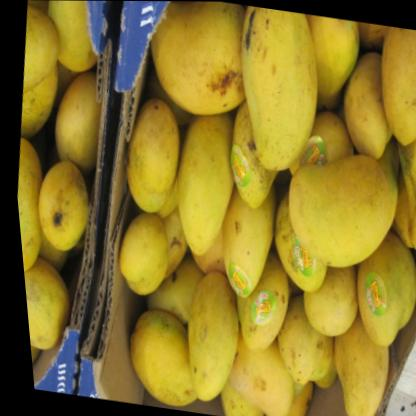mango: (220, 4, 337, 182), (269, 146, 407, 288), (159, 264, 249, 416), (110, 96, 191, 223)
